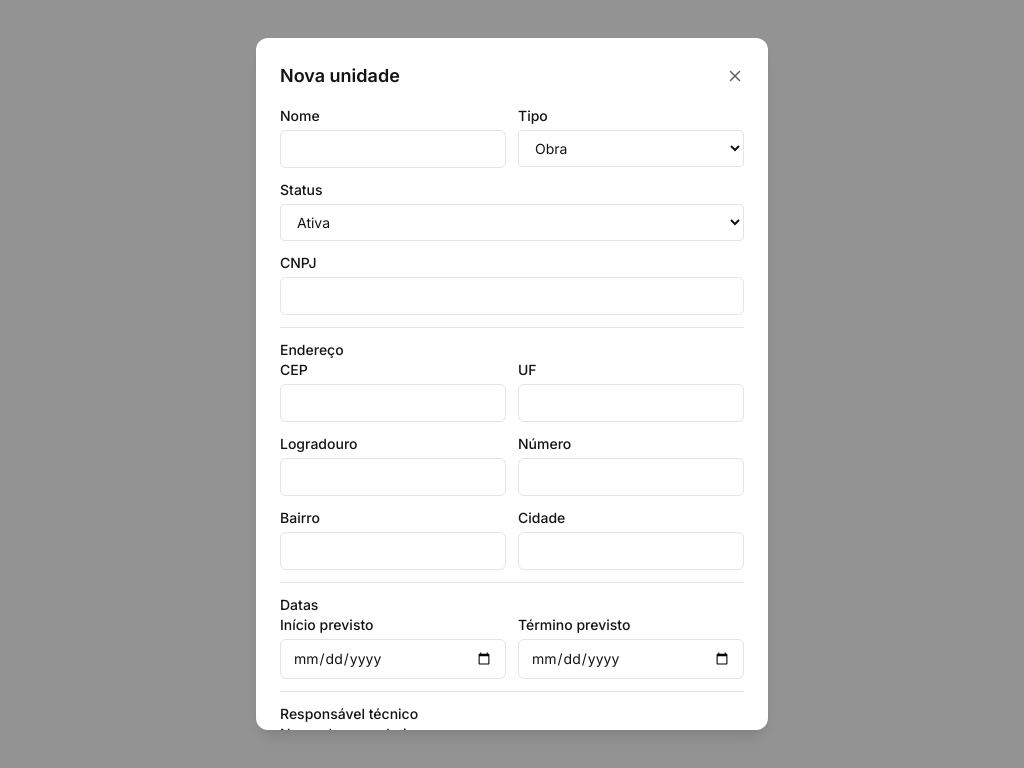
it: UnitFormModal › valida formato de e-mail do engenheiro quando preenchido
This screenshot has width=1024, height=768.
In the field labelled "Nome": coordinates (393, 149) left=280, top=130, right=506, bottom=168, type "Depósito Novo"
(page scrolled)
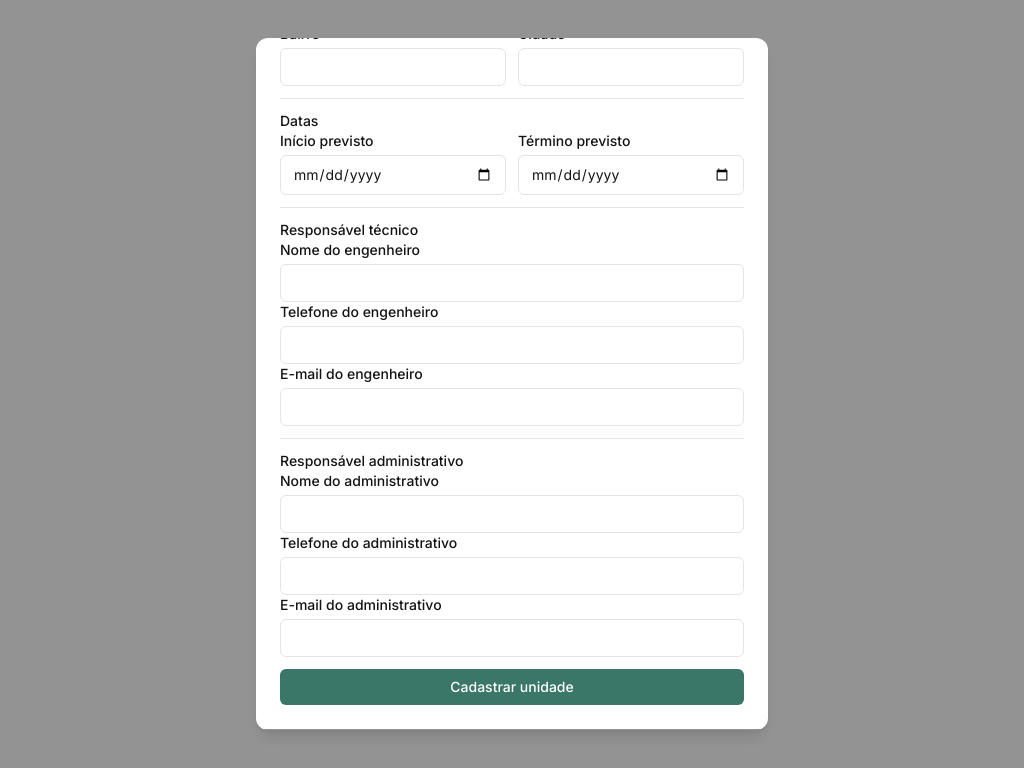
In the field labelled "E-mail do engenheiro": coordinates (512, 407) left=280, top=388, right=744, bottom=426, type "invalido"
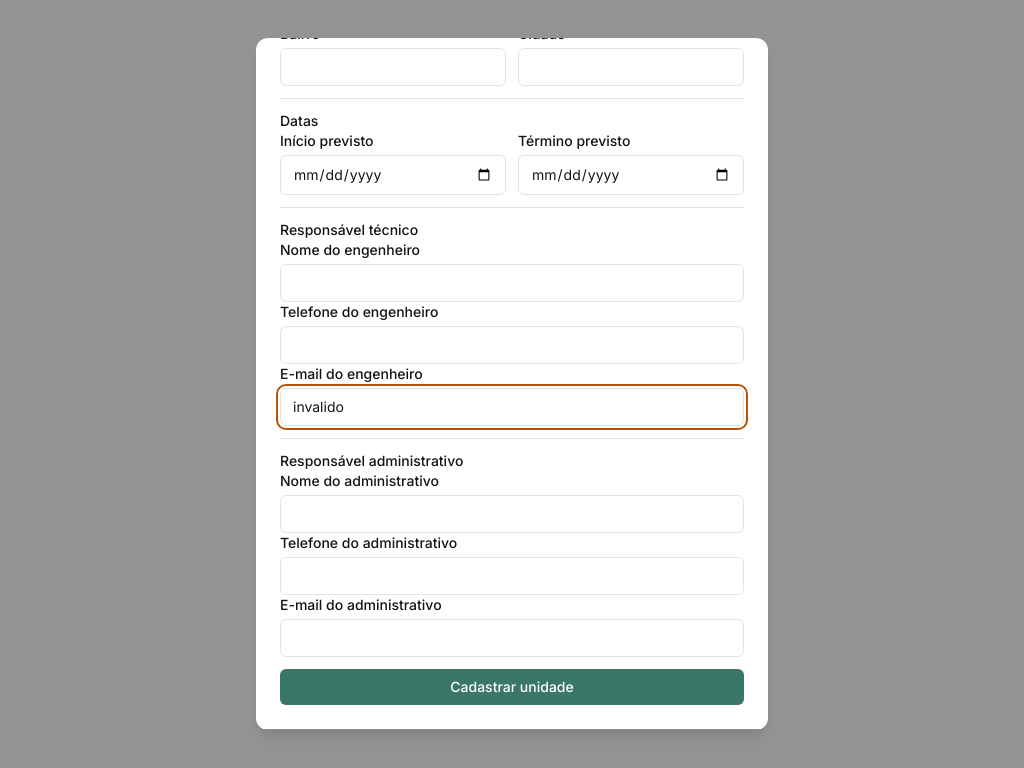
Click the button "Cadastrar unidade": coordinates (512, 687) left=280, top=669, right=744, bottom=705
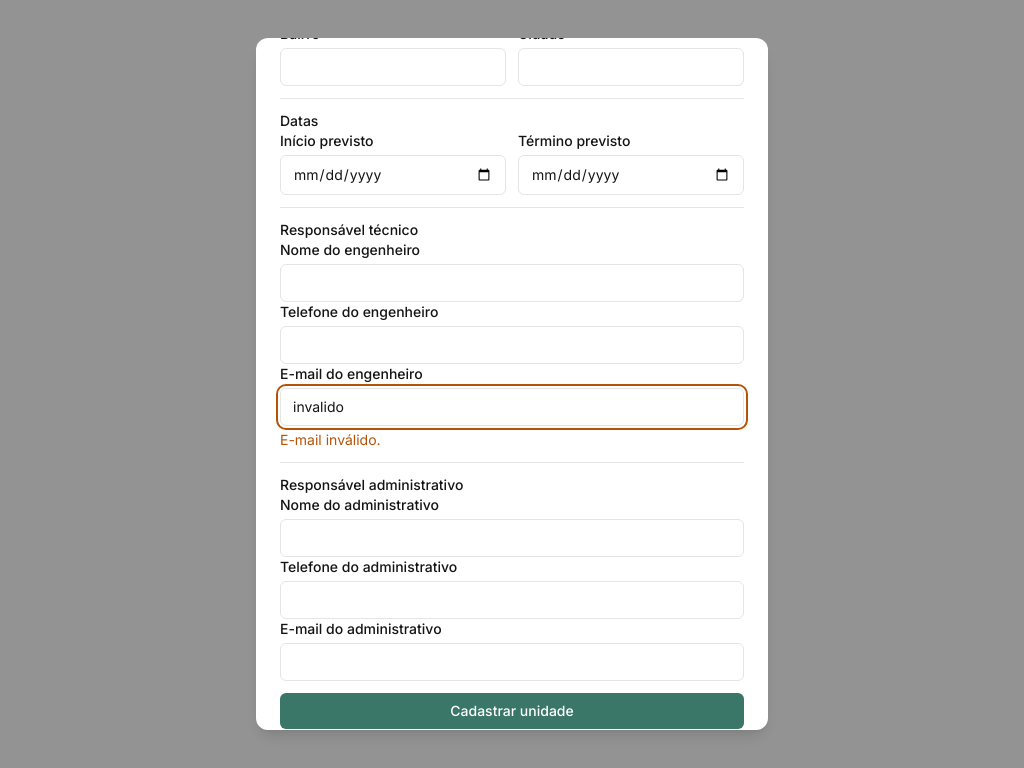
Now the text "E-mail inválido." is shown, box left=280, top=431, right=381, bottom=448
